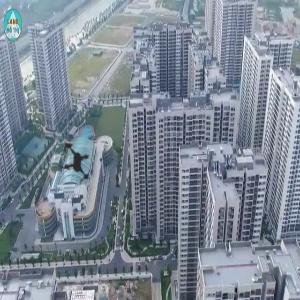drone: (35, 121, 120, 206)
